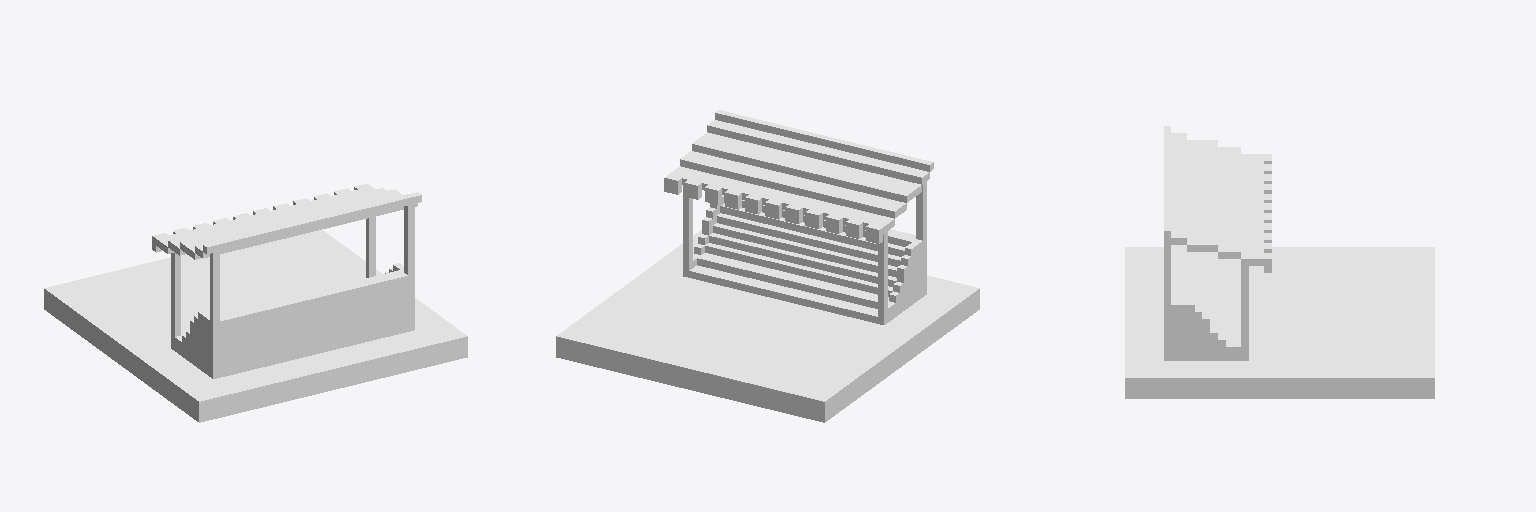
The model's file is Rynok.obj.
The picture shows the model from 3 angles: view 1: azimuth 30°, elevation 25°; view 2: azimuth 150°, elevation 25°; view 3: azimuth 270°, elevation 25°; orthographic projection.
Visible parts, largest first — view 1: object 1; view 2: object 1; view 3: object 1.
Part boxes in pixels (left/top/right/bottom): object 1: left=44, top=183, right=467, bottom=422; object 1: left=556, top=110, right=979, bottom=422; object 1: left=1125, top=126, right=1434, bottom=398.
Bounding box in the file's own units: 4 × 2.2 × 4.